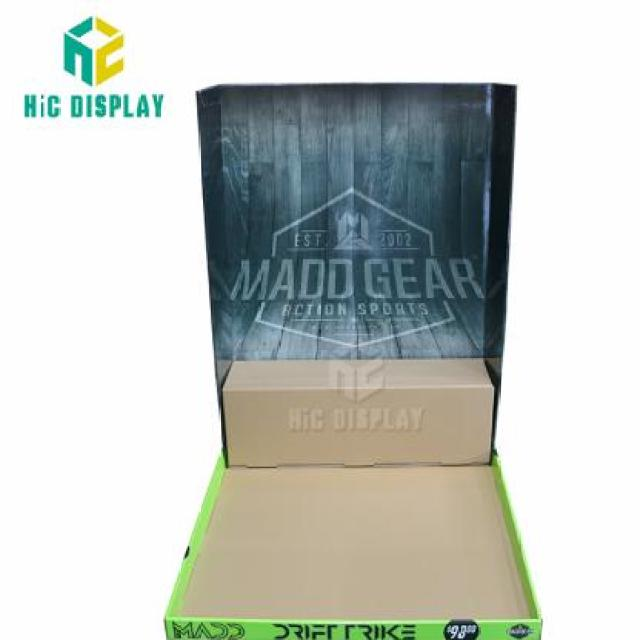box: (152, 79, 550, 640)
